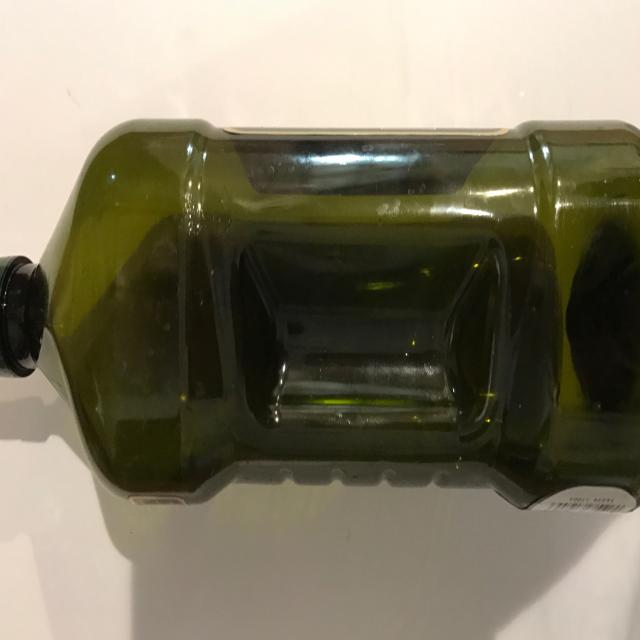plastic: (0, 115, 640, 514)
